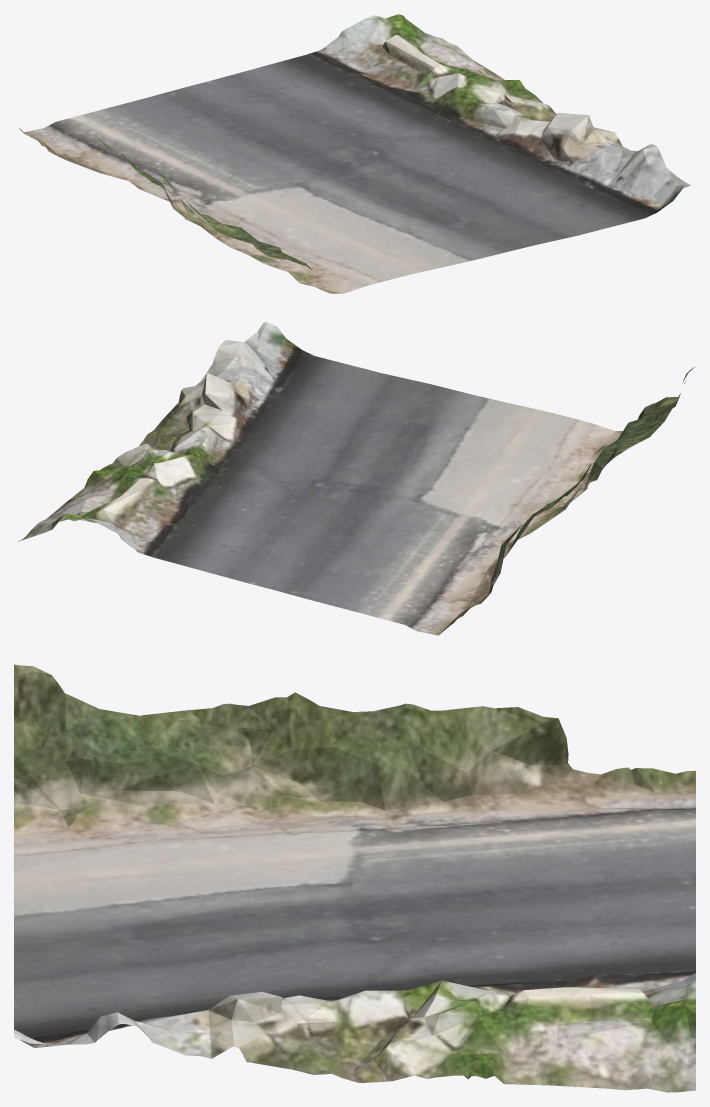
3 renders of one model, top to bottom at view 1: azimuth 30°, elevation 25°; view 2: azimuth 150°, elevation 25°; view 3: azimuth 270°, elevation 25°, orthographic. The views are drawn at different scales.
Size of the model in its own units: 5.9 by 1.33 by 5.9.
Materials: 3 (3 with a texture image).
